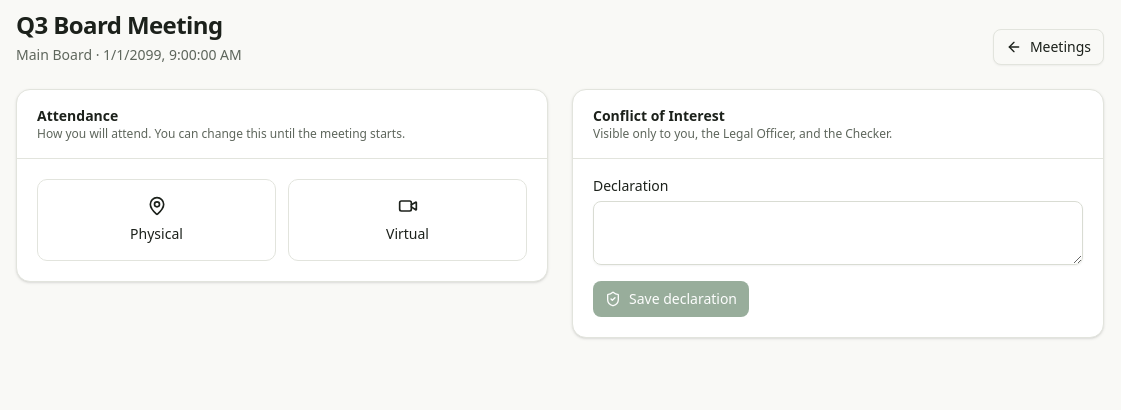
Test case: MemberMeetingDetail › saves a conflict-of-interest declaration
In the text box labelled "Declaration": point(838, 233) x1=593 y1=201 x2=1083 y2=265, type "Financial stake in Vendor X"
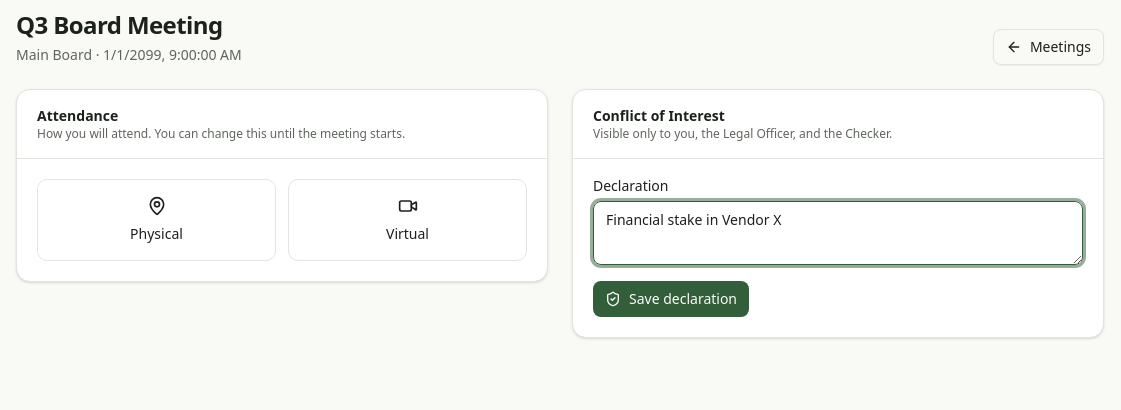
Click the button "Save declaration": point(671, 299) x1=593 y1=281 x2=749 y2=317
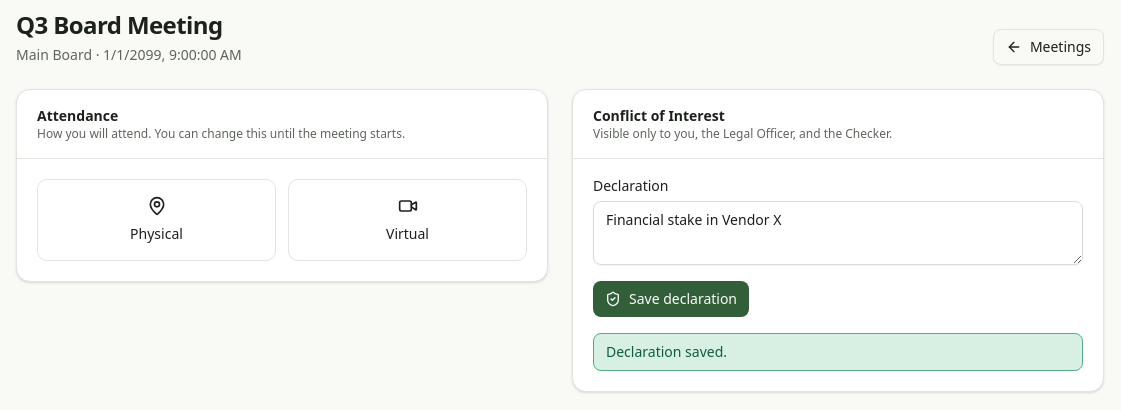
Check: the text "Declaration saved." is shown, box x1=593 y1=333 x2=1083 y2=371
